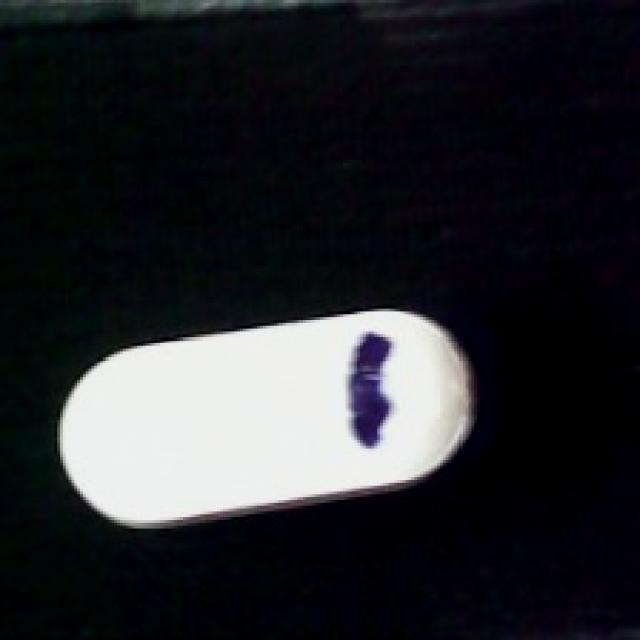defected: (51, 308, 486, 534)
